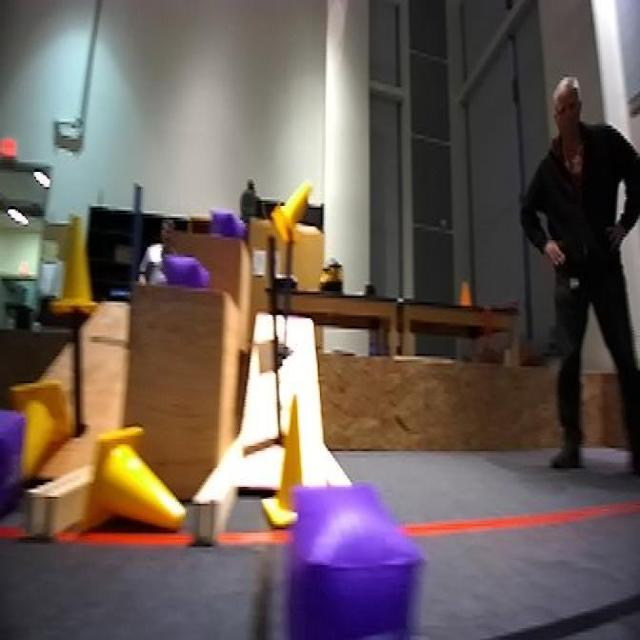frc_cone: (90, 424, 188, 543), (257, 393, 327, 531), (8, 383, 64, 482), (55, 213, 104, 318), (268, 177, 315, 245)
frc_cube: (272, 485, 423, 635), (0, 402, 22, 521), (163, 250, 207, 293), (208, 203, 243, 238)
